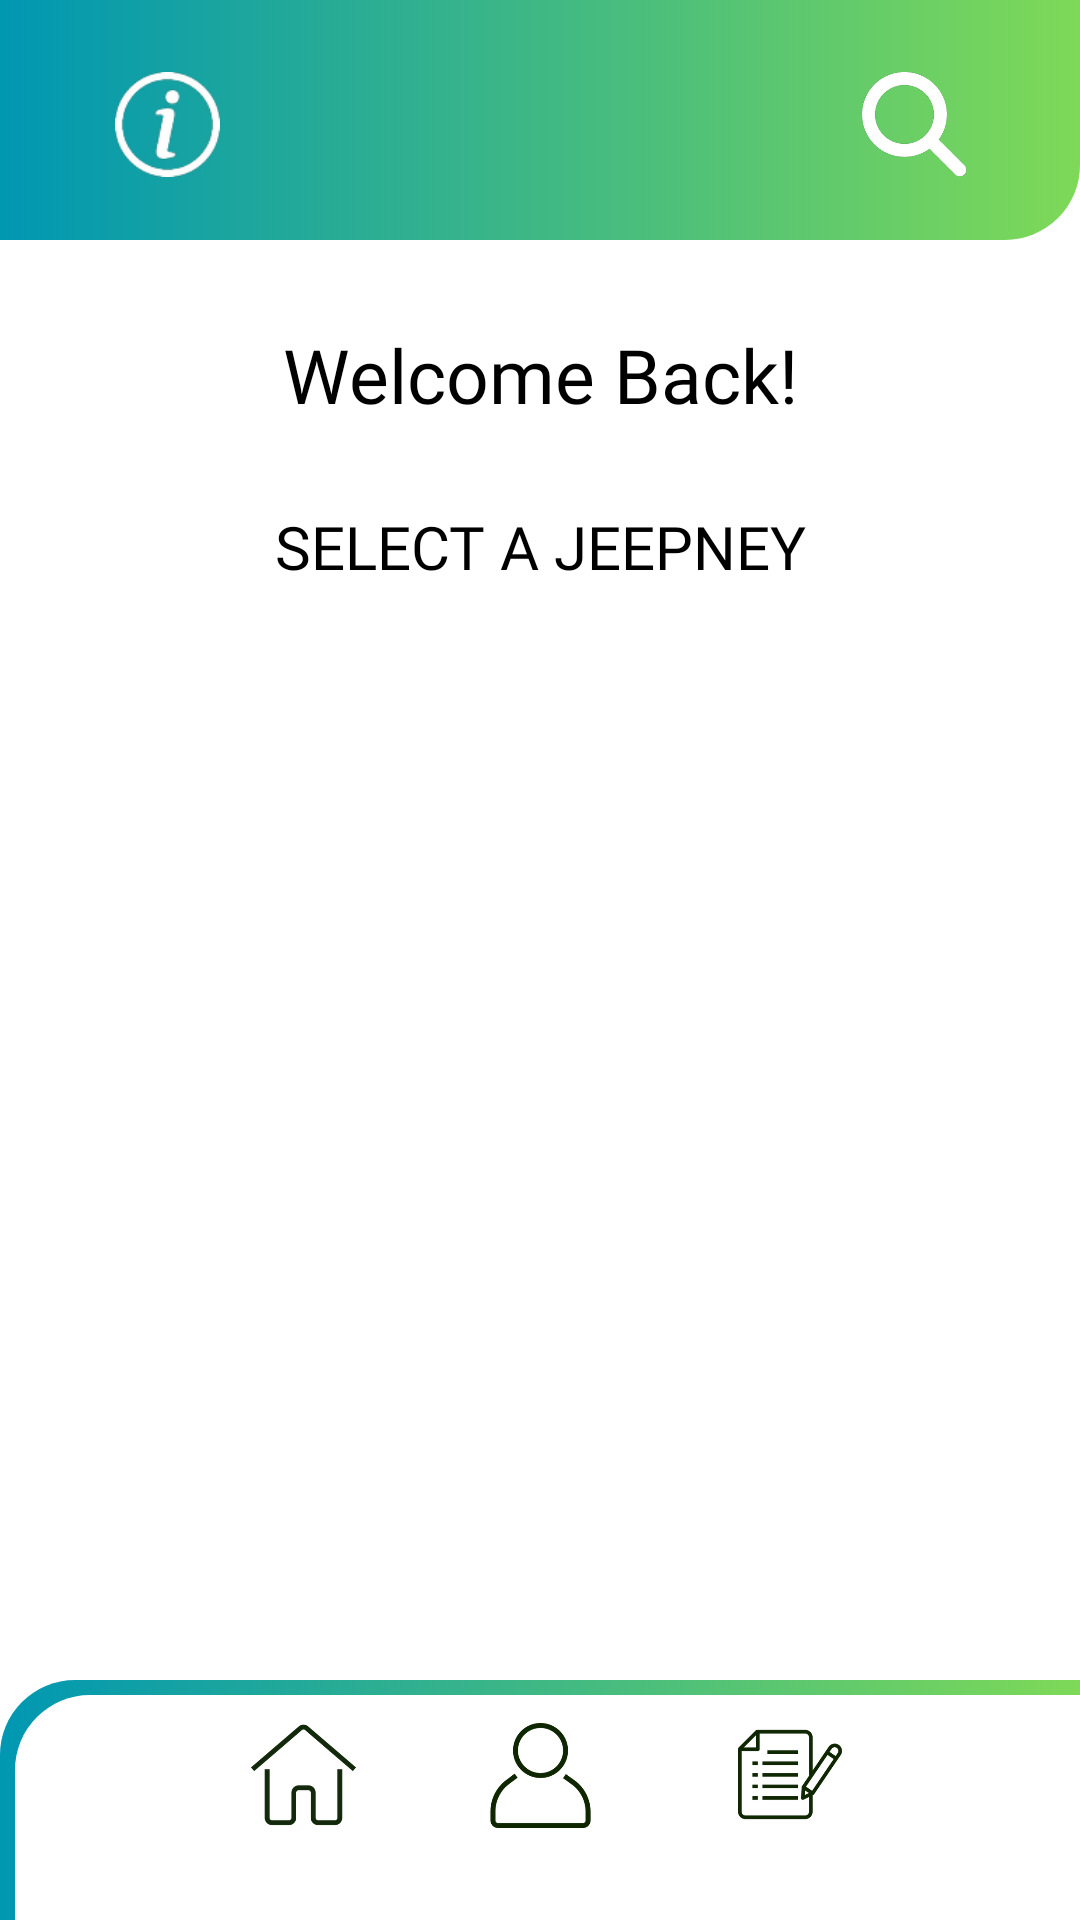

Locate icon controls on the screen. Image size 1080*1920, boxes as bbox=[x1, y1, x2, y2].
about: bbox=[115, 72, 220, 177]
search: bbox=[862, 72, 967, 177]
